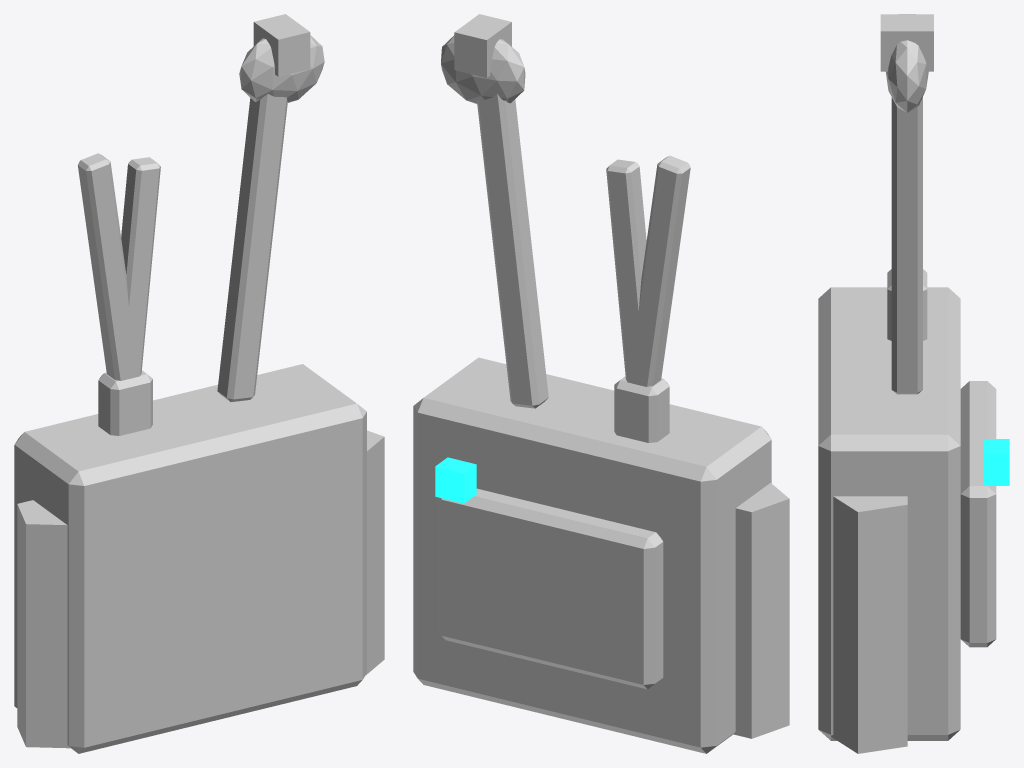
Rendered from gear.back.engineer_rig.glb.
3 views of the same model, side by side, from view 1: azimuth 30°, elevation 25°; view 2: azimuth 150°, elevation 25°; view 3: azimuth 270°, elevation 25° (orthographic). The views are drawn at different scales.
Visible parts, largest first — view 1: socket.back@engineer_rig.base; view 2: socket.back@engineer_rig.base, socket.back@engineer_rig.emissive.cyan; view 3: socket.back@engineer_rig.base, socket.back@engineer_rig.emissive.cyan.
Part boxes in pixels (box(x1,y1,x2,y2)): socket.back@engineer_rig.base: box(14, 14, 384, 753); socket.back@engineer_rig.base: box(413, 14, 789, 753); socket.back@engineer_rig.emissive.cyan: box(435, 457, 476, 503); socket.back@engineer_rig.base: box(818, 14, 996, 753); socket.back@engineer_rig.emissive.cyan: box(983, 439, 1009, 485).
Bounding box in the file's own units: 0.5046 × 0.865 × 0.215.
